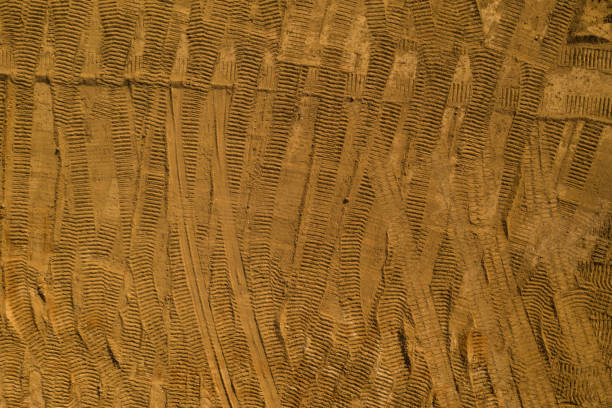vehicle_track: (0, 0, 611, 407), (210, 48, 279, 404), (167, 121, 237, 406), (506, 66, 543, 151)
